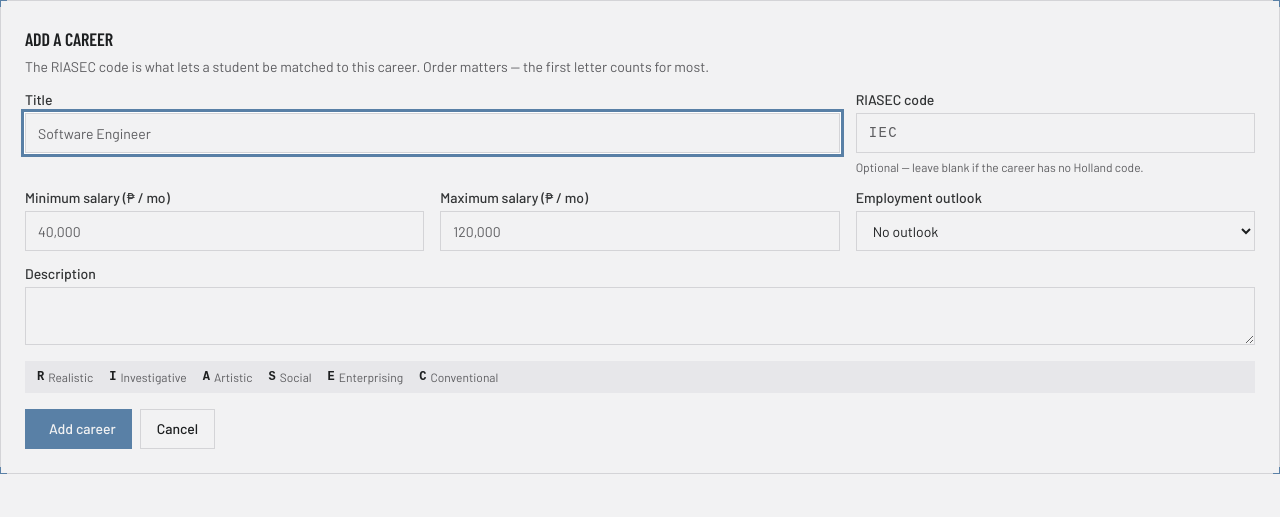
Test case: CareerForm › refuses to submit the invalid code IEX
Type "Some Career" into the field labelled "Title" at (432, 133), box 25,113 -> 840,153
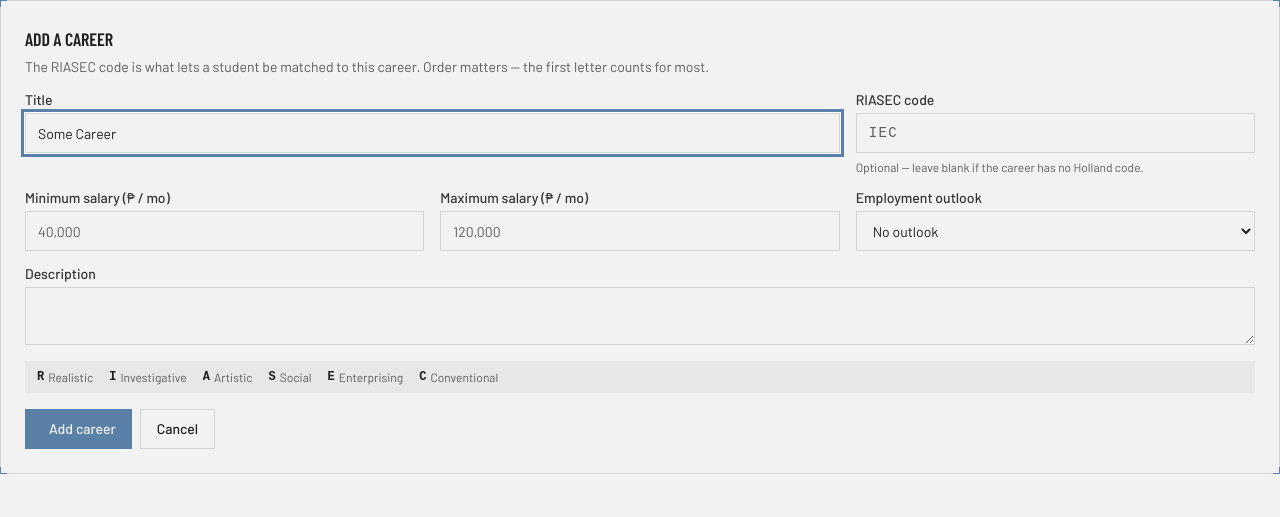
Type "IEX" into the field labelled "RIASEC code" at (1055, 133), box 856,113 -> 1255,153
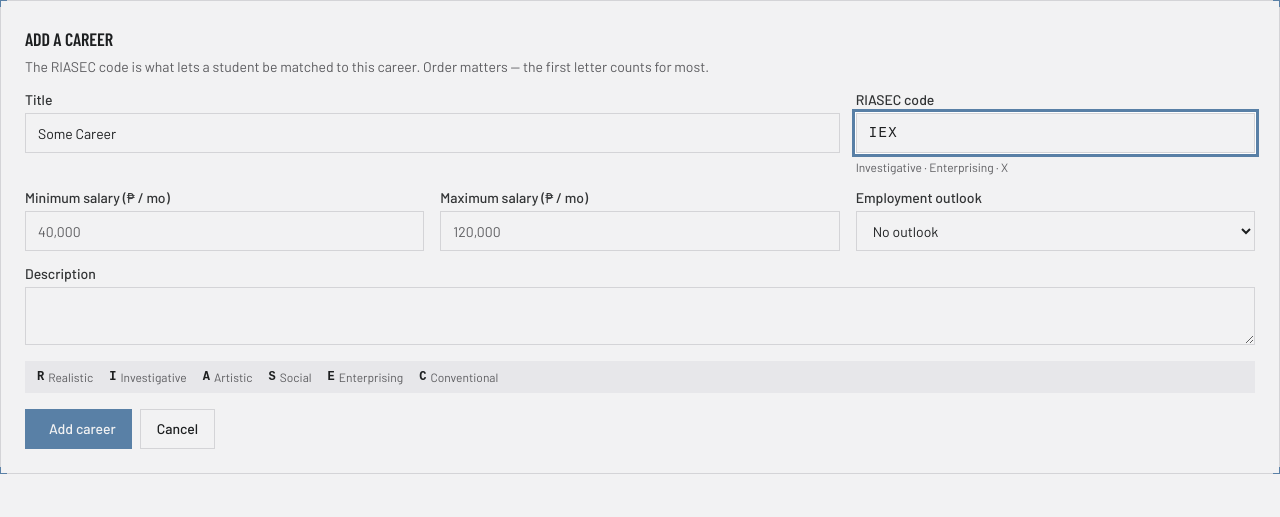
Click the button "Add career" at (78, 429), box 25,409 -> 132,449
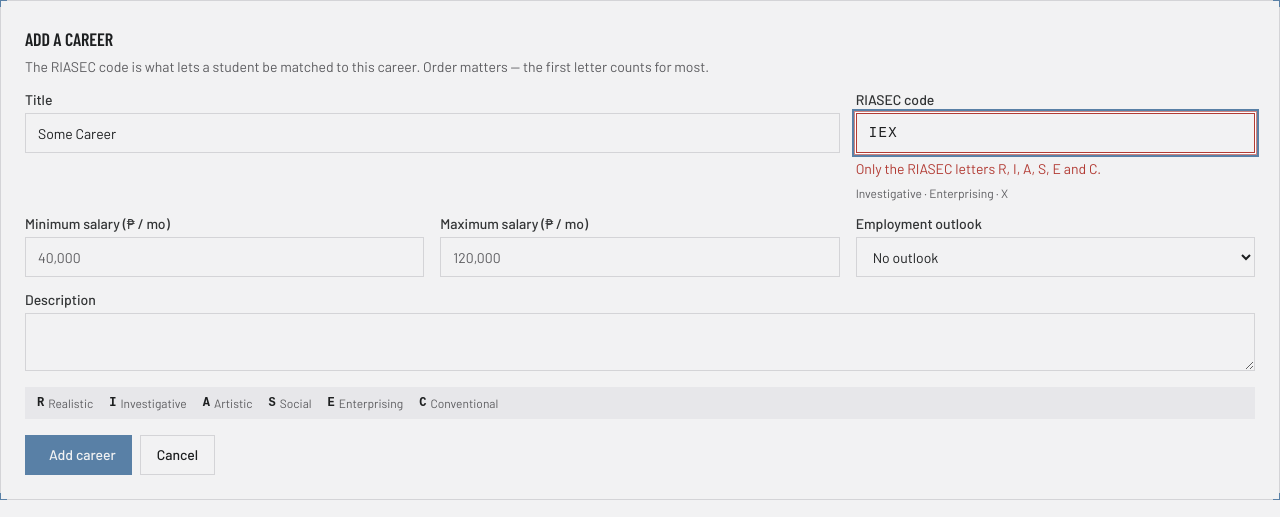
Expected: the text "Only the RIASEC letters R, I, A, S, E and C." is shown, 856,160 -> 1101,177
